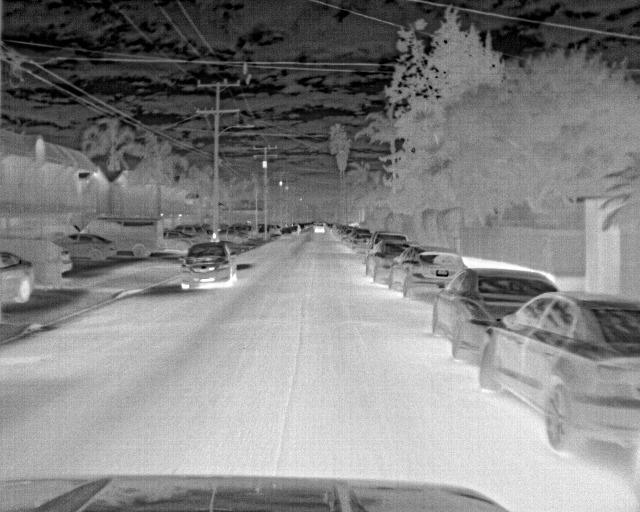car: (472, 290, 635, 461), (433, 261, 559, 364), (388, 248, 468, 304), (86, 213, 164, 258), (177, 241, 239, 289), (365, 240, 413, 282), (1, 251, 35, 306), (61, 235, 116, 264), (48, 240, 74, 275), (163, 227, 197, 250), (218, 227, 248, 246), (348, 227, 372, 250), (277, 226, 294, 239), (312, 221, 327, 235)
